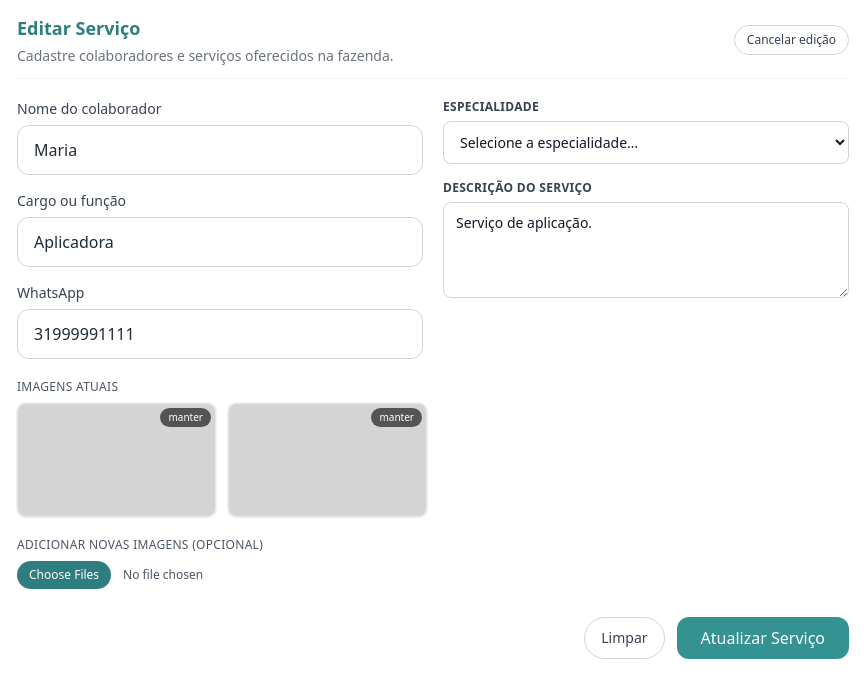
Test: ServiceFormUnificado › em modo edição: deve preencher campos, listar imagens existentes únicas e permitir marcar para remoção (keepImages)
Expected: the heading "Editar Serviço" is shown, [17,16,140,40]
Expected: the field labelled "Nome do colaborador" holds "Maria", [17,125,423,175]
clicar para marcar remoção
Click the button named "img existente".
click(328, 460)  # box [228,403,427,517]
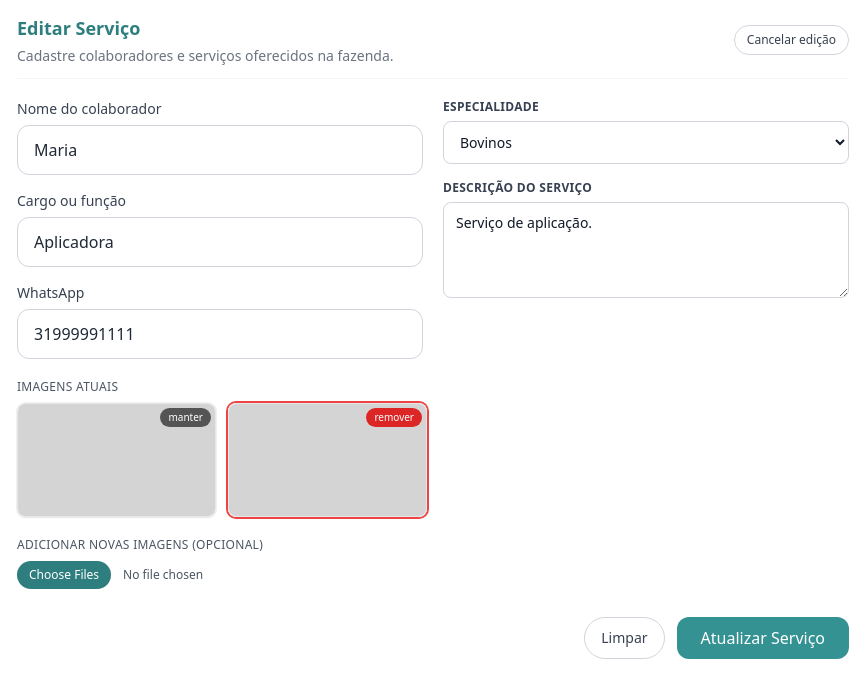
Result: the text "remover" is shown at [366,408,422,427]
Click the button "Atualizar Serviço".
click(763, 638)  # box [677,617,849,659]
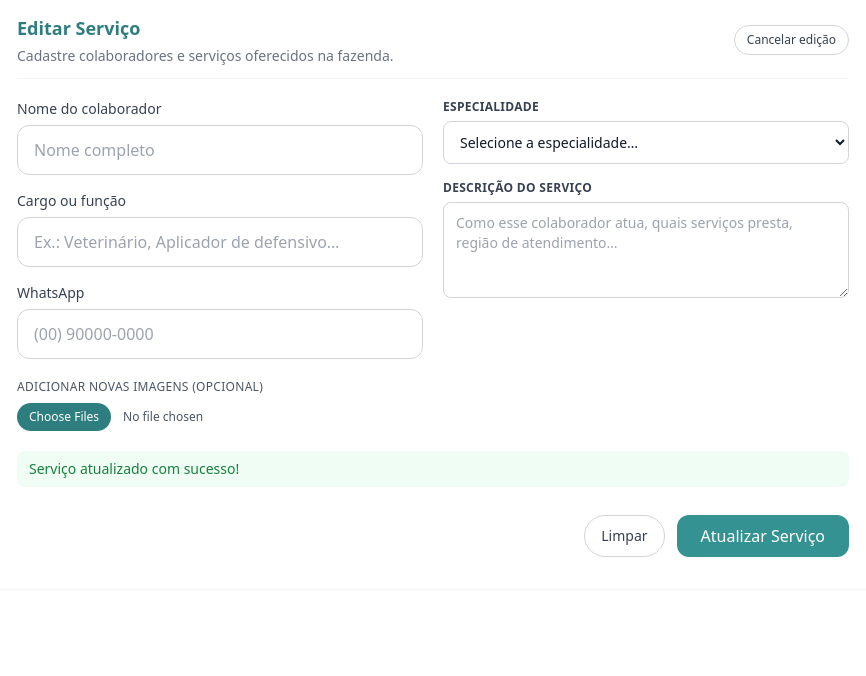
Result: the text "Serviço atualizado com sucesso!" is shown at [17,451,849,487]
